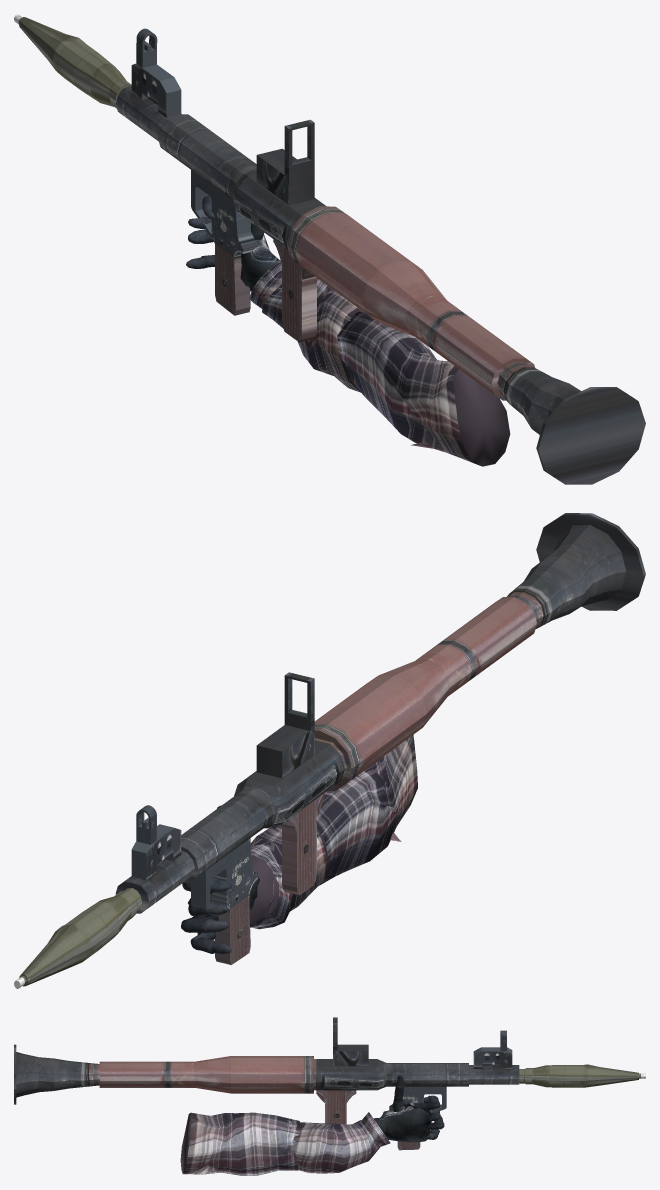
Rendered from rpg7_ads.fbx.
3 views of the same model, one above another, from view 1: azimuth 30°, elevation 25°; view 2: azimuth 150°, elevation 25°; view 3: azimuth 270°, elevation 25° (orthographic). The views are drawn at different scales.
Visible parts, largest first — view 1: rpg_body, rupperarm, rforearm, rpg_rocket, rpg_pistolgrip, rpg_rearsight, rpg_grip, rpg_frontsight, rhand, rpg_trigger; view 2: rpg_body, rupperarm, rpg_rocket, rforearm, rpg_rearsight, rpg_pistolgrip, rpg_grip, rpg_frontsight, rpg_trigger; view 3: rpg_body, rupperarm, rforearm, rpg_rocket, rhand, rpg_rearsight, rpg_frontsight, rpg_grip, rpg_pistolgrip, rpg_trigger.
Part boxes in pixels (<box>): rpg_body: <box>115,85,645,484</box>; rupperarm: <box>337,312,510,466</box>; rforearm: <box>249,260,363,392</box>; rpg_rocket: <box>14,14,131,108</box>; rpg_pistolgrip: <box>210,184,257,315</box>; rpg_rearsight: <box>256,119,314,205</box>; rpg_grip: <box>273,239,316,342</box>; rpg_frontsight: <box>131,28,181,117</box>; rhand: <box>240,234,279,291</box>; rpg_trigger: <box>191,170,211,236</box>; rpg_body: <box>115,513,645,913</box>; rupperarm: <box>317,735,417,885</box>; rpg_rocket: <box>14,888,141,988</box>; rforearm: <box>249,825,331,929</box>; rpg_rearsight: <box>256,672,314,778</box>; rpg_pistolgrip: <box>211,838,258,964</box>; rpg_grip: <box>280,793,324,895</box>; rpg_frontsight: <box>131,805,181,880</box>; rpg_trigger: <box>191,857,226,908</box>; rpg_body: <box>14,1044,519,1104</box>; rupperarm: <box>180,1112,299,1175</box>; rforearm: <box>290,1112,390,1173</box>; rpg_rocket: <box>519,1064,645,1087</box>; rhand: <box>373,1104,431,1142</box>; rpg_rearsight: <box>333,1017,368,1066</box>; rpg_frontsight: <box>473,1030,512,1068</box>; rpg_grip: <box>316,1090,356,1124</box>; rpg_pistolgrip: <box>389,1086,425,1150</box>; rpg_trigger: <box>425,1086,446,1113</box>.
Size of the model in its own units: 6.9 by 13.43 by 53.58.
3 materials, 3 textured.
